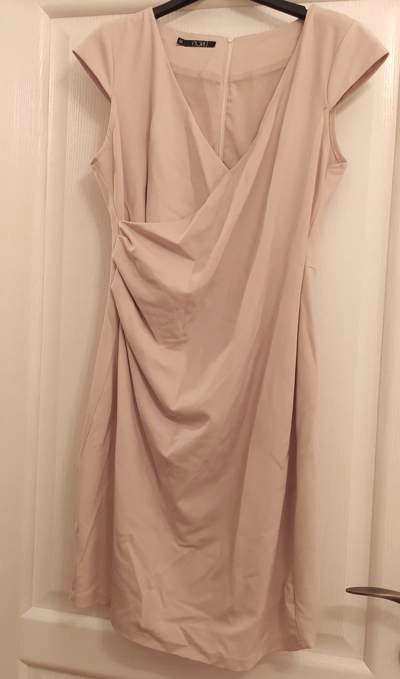Dress: (41, 15, 398, 657)
